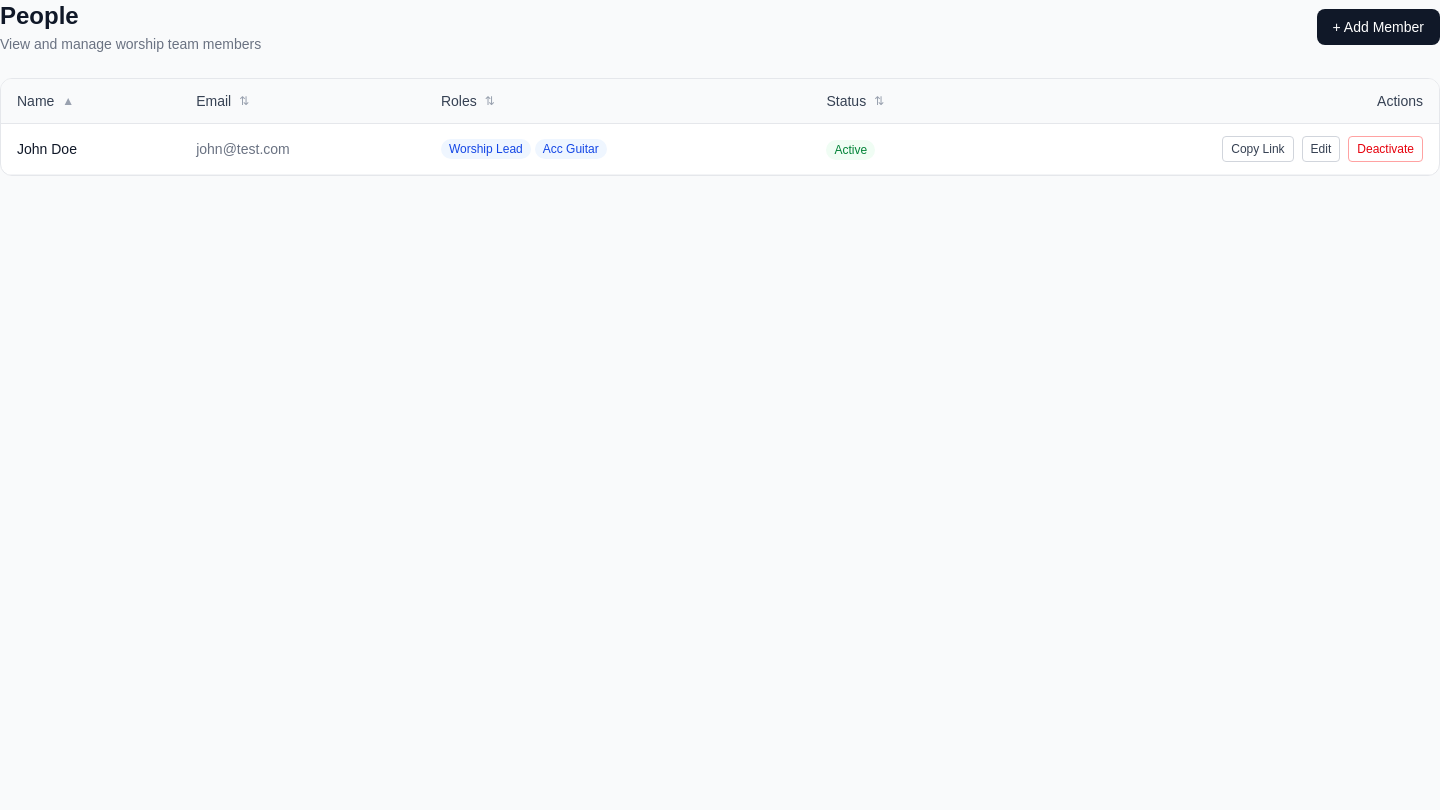
Test: AdminPeoplePage — Custom Permissions UI › expanding Custom Permissions shows resource rows with checkboxes
Click the button "Edit" at (1321, 149), box [1302,136,1340,162]
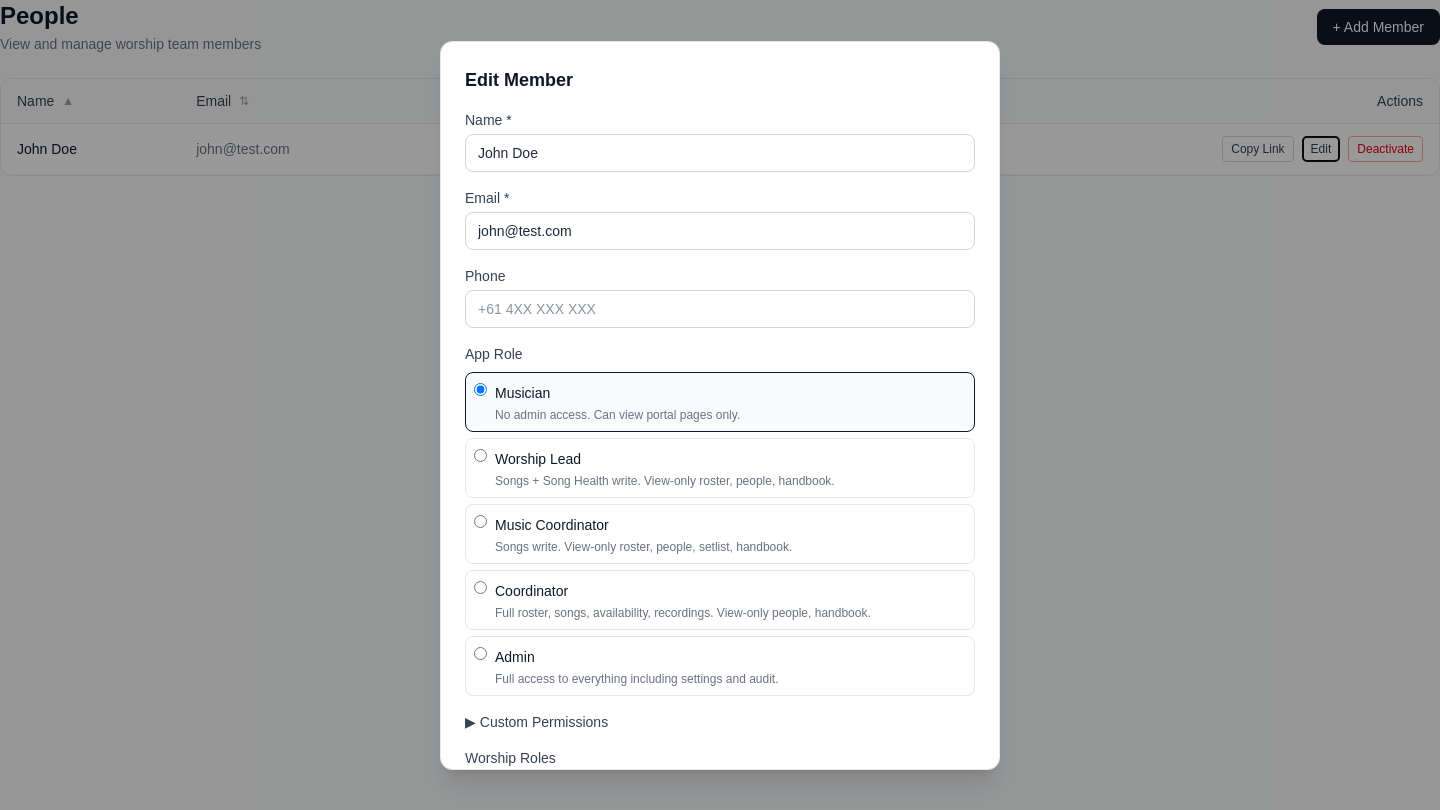
Click the button "▶ Custom Permissions" at (537, 722), box [465,712,608,732]
(page scrolled)
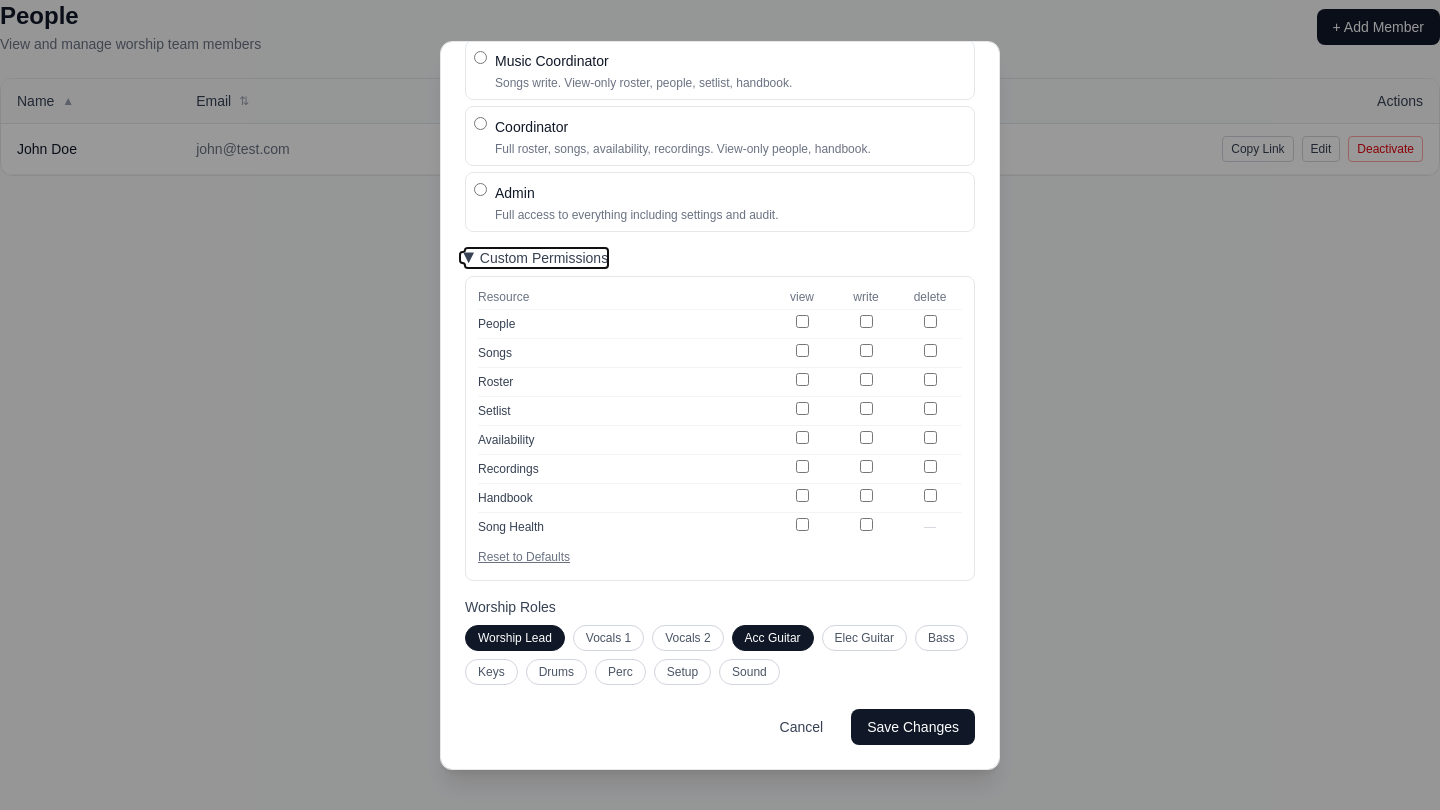
Now the text "Songs" is shown, box [478,338,770,367]
Now the text "Roster" is shown, box [478,367,770,396]
Now the button "Reset to Defaults" is shown, box [478,548,570,564]
